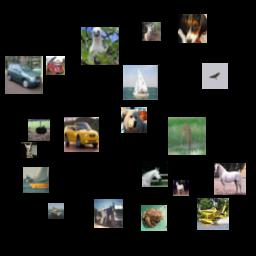airplane: (197, 198, 229, 230)
automobile: (5, 56, 43, 94), (64, 117, 99, 152)
bird: (81, 27, 119, 65), (202, 63, 228, 89), (28, 119, 50, 141)
deer: (168, 117, 206, 155), (142, 22, 161, 41)
dog: (178, 14, 207, 43), (121, 107, 147, 133), (21, 142, 37, 158)
frog: (141, 205, 167, 231)
ship: (123, 65, 158, 100), (23, 167, 49, 193), (48, 203, 64, 219)
truck: (94, 199, 123, 228), (46, 56, 65, 75)
